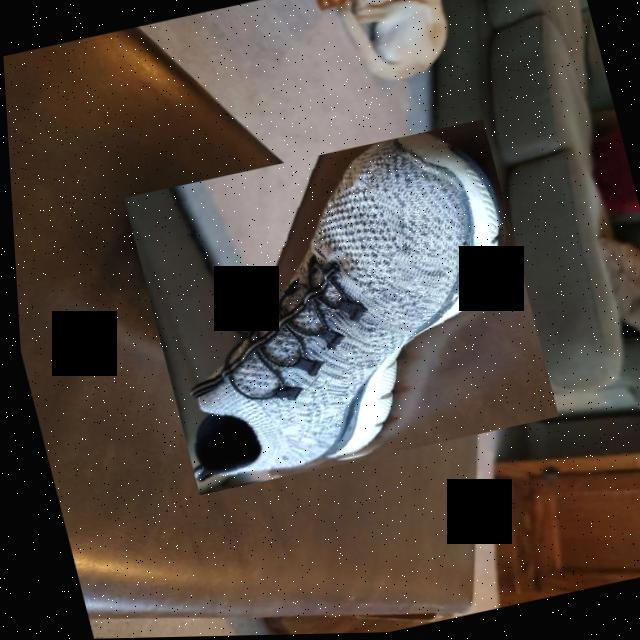shoe: (119, 121, 557, 497)
